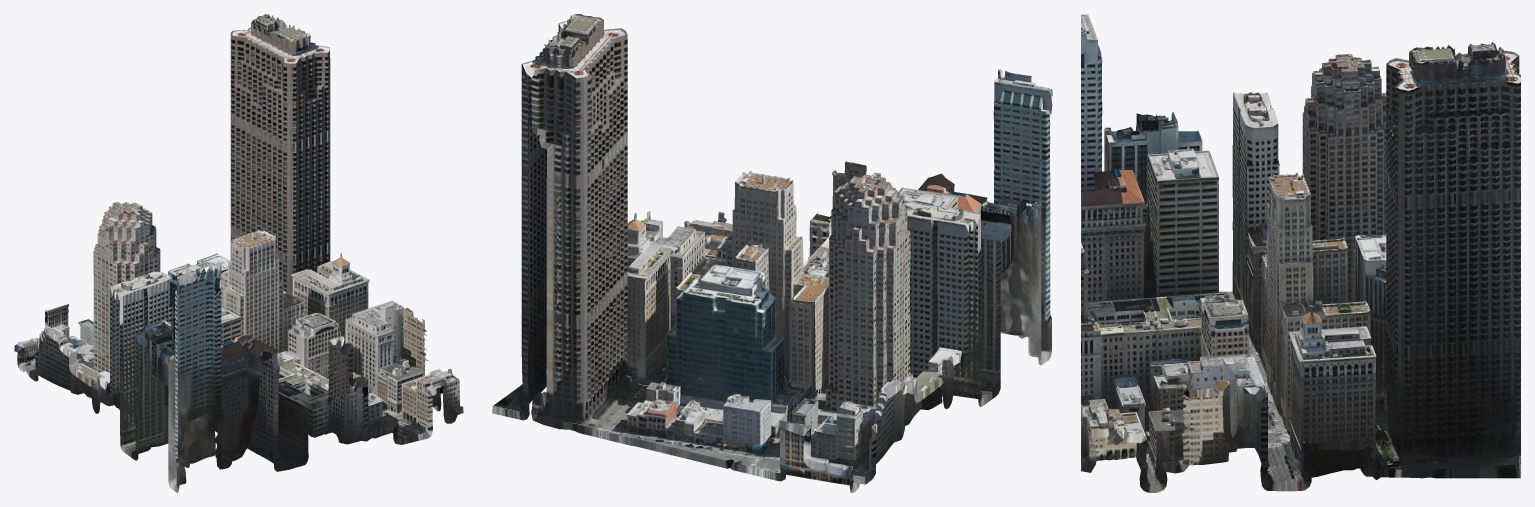
The model's file is z17-20970-50654-h0-yup-uvflip-v3-world.glb.
3 views of the same model, side by side, from view 1: azimuth 30°, elevation 25°; view 2: azimuth 150°, elevation 25°; view 3: azimuth 270°, elevation 25° (orthographic). The views are drawn at different scales.
Bounding box in the file's own units: 242 × 252 × 243.
Materials: 1 (1 with a texture image).
